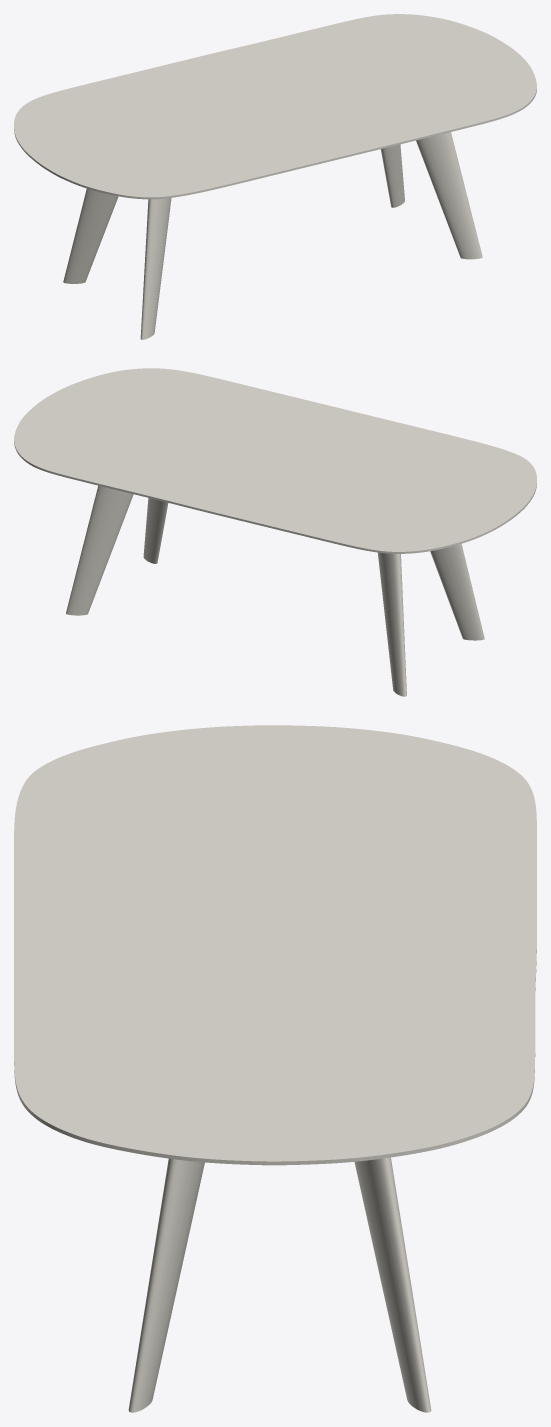
Rendered from pale_oval_facet_ferdinantwalnut.glb.
3 views of the same model, one above another, from view 1: azimuth 30°, elevation 25°; view 2: azimuth 150°, elevation 25°; view 3: azimuth 270°, elevation 25° (orthographic). The views are drawn at different scales.
Visible parts, largest first — view 1: facet_oval, ferdinandwalnut; view 2: facet_oval, ferdinandwalnut; view 3: facet_oval, ferdinandwalnut.
Part boxes in pixels (x1,y1,x2,y2): facet_oval: (14,14,536,199); ferdinandwalnut: (63,132,482,339); facet_oval: (14,368,536,553); ferdinandwalnut: (66,485,484,696); facet_oval: (14,725,536,1165); ferdinandwalnut: (128,1157,431,1412).
Size of the model in its own units: 7.5 by 2.51 by 3.8.
1 material, 1 textured.
